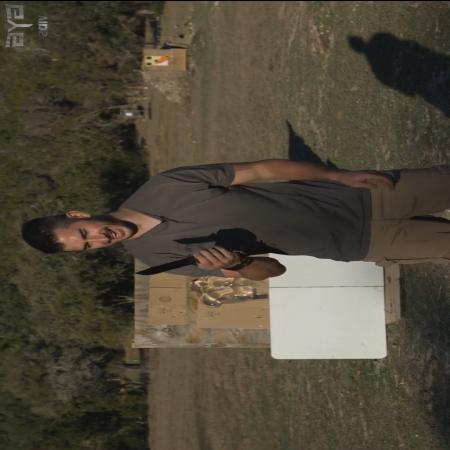long weapon: (128, 246, 230, 278)
